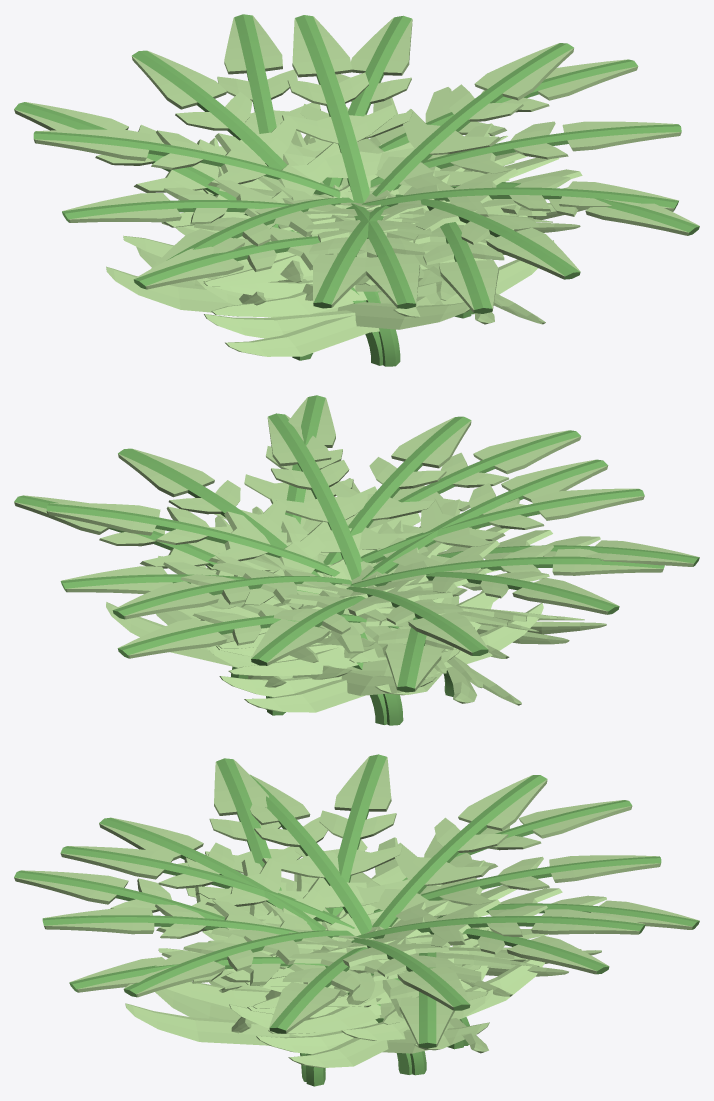
Rendered from Fern.fbx.
The picture shows the model from 3 angles, top to bottom: view 1: azimuth 30°, elevation 25°; view 2: azimuth 150°, elevation 25°; view 3: azimuth 270°, elevation 25°; orthographic projection. The views are drawn at different scales.
Parts seen in each view (by area): view 1: pCylinder8, pCylinder9, pCylinder7, pCylinder4, pCylinder6, pCylinder5; view 2: pCylinder4, pCylinder5, pCylinder9, pCylinder6, pCylinder8, pCylinder7; view 3: pCylinder7, pCylinder6, pCylinder5, pCylinder8, pCylinder4, pCylinder9.
Boxes of the visible parts, <box> form: pCylinder8: <box>14,15,553,366</box>; pCylinder9: <box>106,14,573,360</box>; pCylinder7: <box>33,129,545,324</box>; pCylinder4: <box>209,59,681,305</box>; pCylinder6: <box>151,187,585,313</box>; pCylinder5: <box>161,135,699,308</box>; pCylinder4: <box>14,413,543,725</box>; pCylinder5: <box>106,395,608,715</box>; pCylinder9: <box>46,503,521,705</box>; pCylinder6: <box>199,430,664,687</box>; pCylinder8: <box>112,556,606,692</box>; pCylinder7: <box>198,526,699,655</box>; pCylinder7: <box>125,754,547,1086</box>; pCylinder6: <box>14,774,544,1075</box>; pCylinder5: <box>42,846,488,1053</box>; pCylinder8: <box>231,800,661,1033</box>; pCylinder4: <box>123,905,601,1048</box>; pCylinder9: <box>219,885,699,1010</box>.
Bounding box in the file's own units: 310 × 82.91 × 321.
